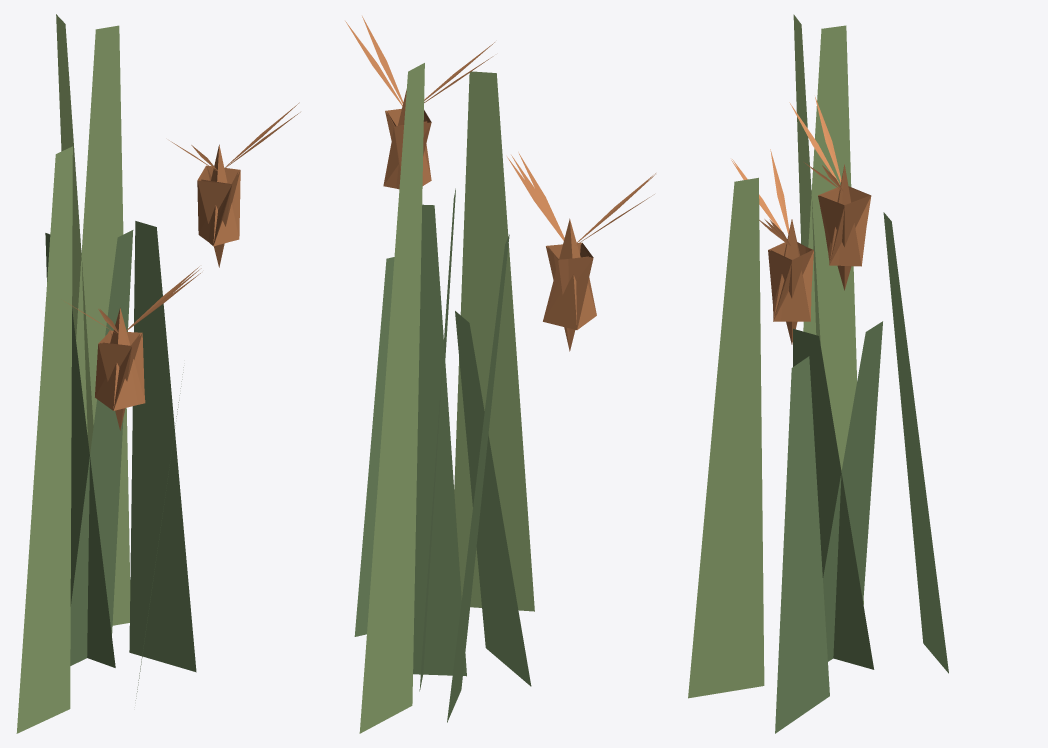
File: nong.su@fruiting__bloom.glb
The picture shows the model from 3 angles, left to right: view 1: azimuth 30°, elevation 25°; view 2: azimuth 150°, elevation 25°; view 3: azimuth 270°, elevation 25°; orthographic projection. The views are drawn at different scales.
Visible parts, largest first — view 1: nong.su@fruiting__bloom; view 2: nong.su@fruiting__bloom; view 3: nong.su@fruiting__bloom.
Part boxes in pixels (x1,y1,x2,y2): nong.su@fruiting__bloom: [16, 14, 300, 733]; nong.su@fruiting__bloom: [345, 16, 655, 733]; nong.su@fruiting__bloom: [688, 14, 948, 733].
Size of the model in its own units: 0.485 by 0.9887 by 0.4909.
